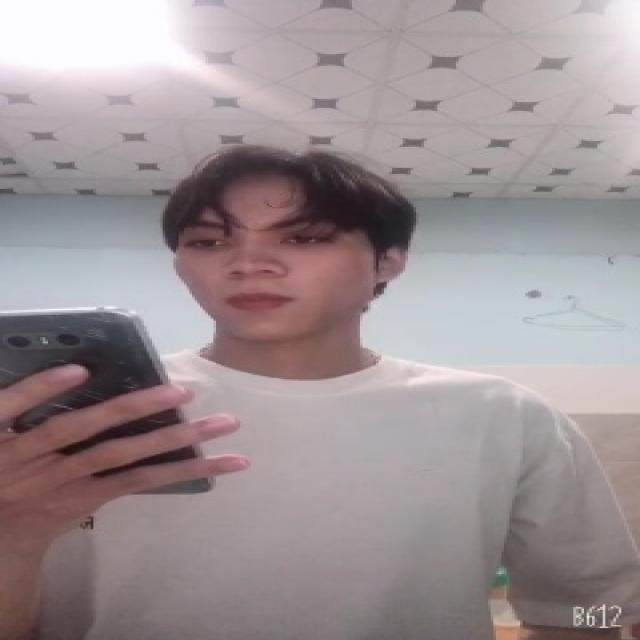Phone: (0, 307, 219, 497)
